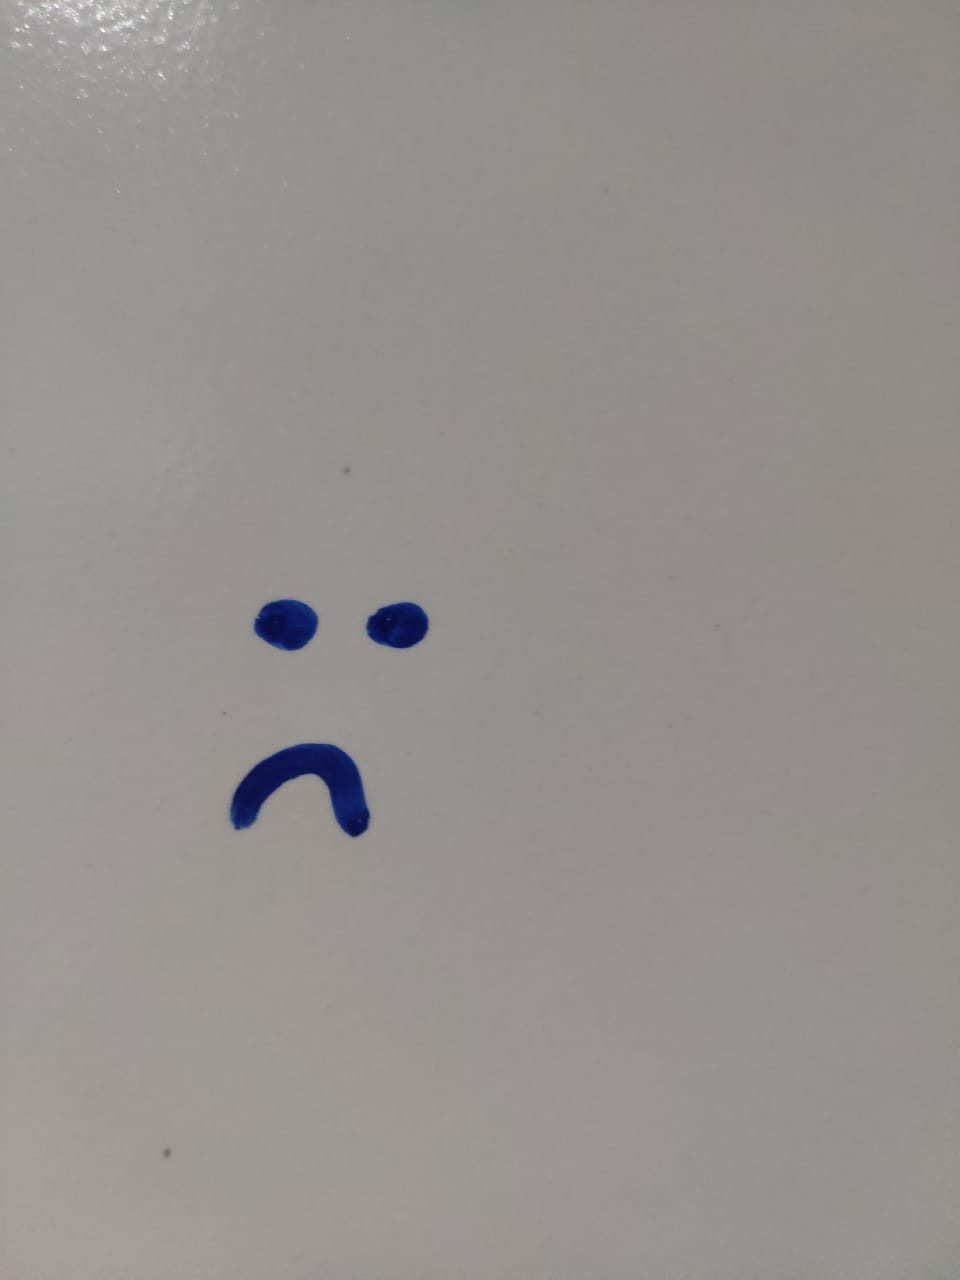triste: (184, 523, 435, 898)
